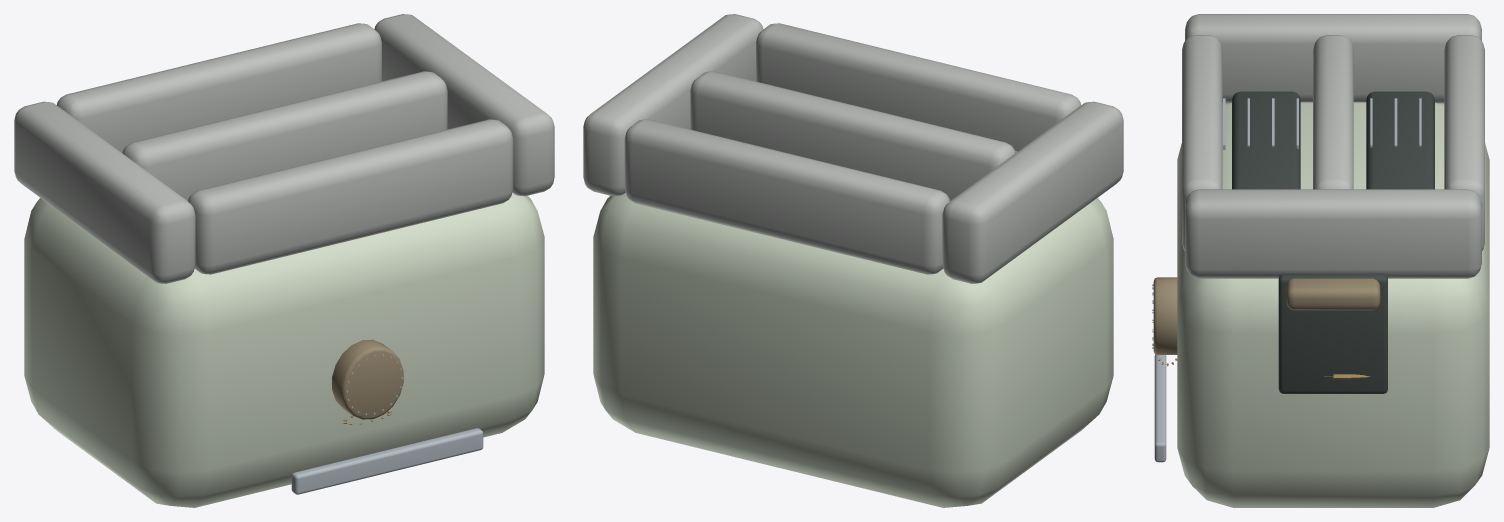
The model's file is two-slot-toaster.glb.
3 renders of one model, left to right at view 1: azimuth 30°, elevation 25°; view 2: azimuth 150°, elevation 25°; view 3: azimuth 270°, elevation 25°, orthographic.
Parts seen in each view (by area): view 1: catalog_surface_RealismUV, catalog_surface_UVMap; view 2: catalog_surface_RealismUV; view 3: catalog_surface_RealismUV, catalog_surface_UVMap.
Part boxes in pixels (bbox=[...]): catalog_surface_RealismUV: bbox=[14, 14, 554, 507]; catalog_surface_UVMap: bbox=[332, 339, 403, 419]; catalog_surface_RealismUV: bbox=[583, 14, 1123, 507]; catalog_surface_RealismUV: bbox=[1152, 14, 1489, 507]; catalog_surface_UVMap: bbox=[1153, 91, 1434, 393].
Size of the model in its own units: 0.3 by 0.21 by 0.2.
